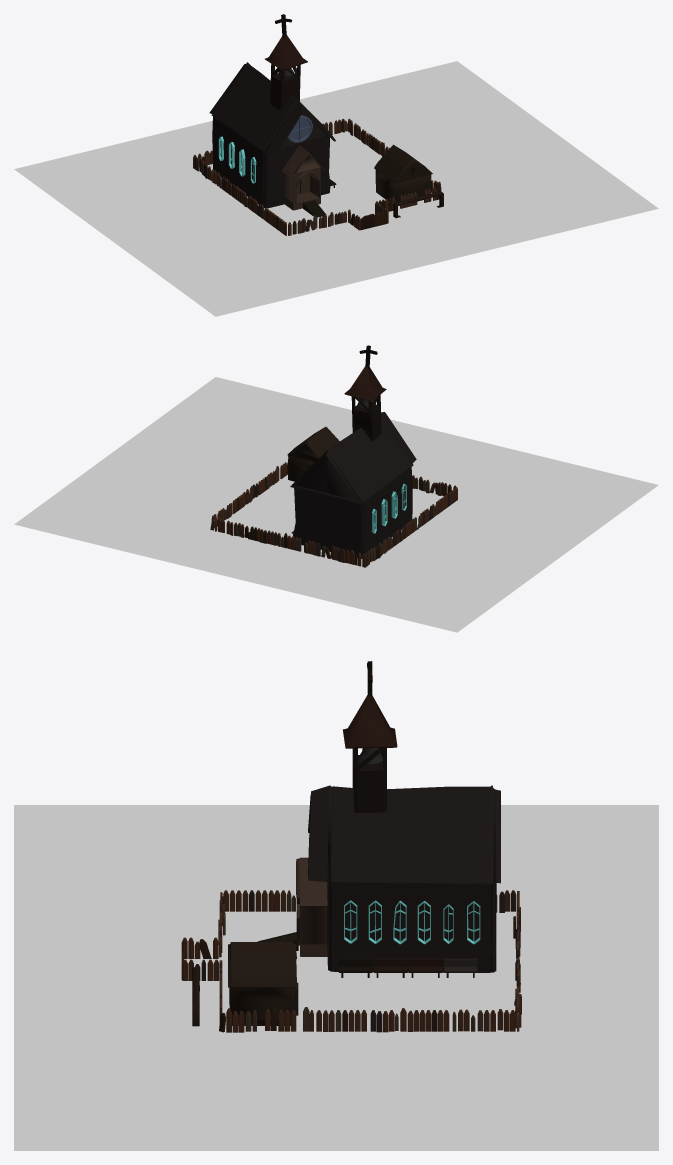
File: Church.FBX
The picture shows the model from 3 angles, top to bottom: view 1: azimuth 30°, elevation 25°; view 2: azimuth 150°, elevation 25°; view 3: azimuth 270°, elevation 25°; orthographic projection. The views are drawn at different scales.
Visible parts, largest first — view 1: Plane001, Box017, Box824, Box018, Box067, Pyramid001, Cylinder001; view 2: Plane001, Box017, Box824, Box067, Pyramid001; view 3: Plane001, Box017, Box824, Box018, Box067, Pyramid001.
Part boxes in pixels (x1=…): Plane001: x1=14, y1=61, x2=658, y2=316; Box017: x1=209, y1=62, x2=335, y2=208; Box824: x1=374, y1=144, x2=432, y2=205; Box018: x1=281, y1=145, x2=324, y2=210; Box067: x1=270, y1=64, x2=300, y2=109; Pyramid001: x1=265, y1=35, x2=307, y2=70; Cylinder001: x1=287, y1=115, x2=312, y2=142; Plane001: x1=14, y1=377, x2=658, y2=632; Box017: x1=290, y1=412, x2=416, y2=558; Box824: x1=287, y1=426, x2=339, y2=481; Box067: x1=351, y1=395, x2=381, y2=441; Pyramid001: x1=344, y1=366, x2=386, y2=401; Plane001: x1=14, y1=805, x2=658, y2=1150; Box017: x1=308, y1=785, x2=500, y2=972; Box824: x1=228, y1=942, x2=298, y2=1025; Box018: x1=296, y1=857, x2=327, y2=956; Box067: x1=352, y1=748, x2=386, y2=812; Pyramid001: x1=342, y1=695, x2=397, y2=748.
Size of the model in its own units: 3558 by 1378 by 2804.
